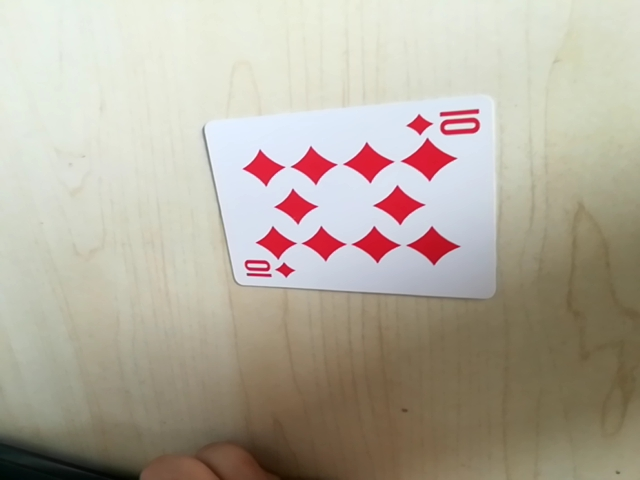fk 10: (405, 102, 486, 141), (236, 257, 296, 288)
